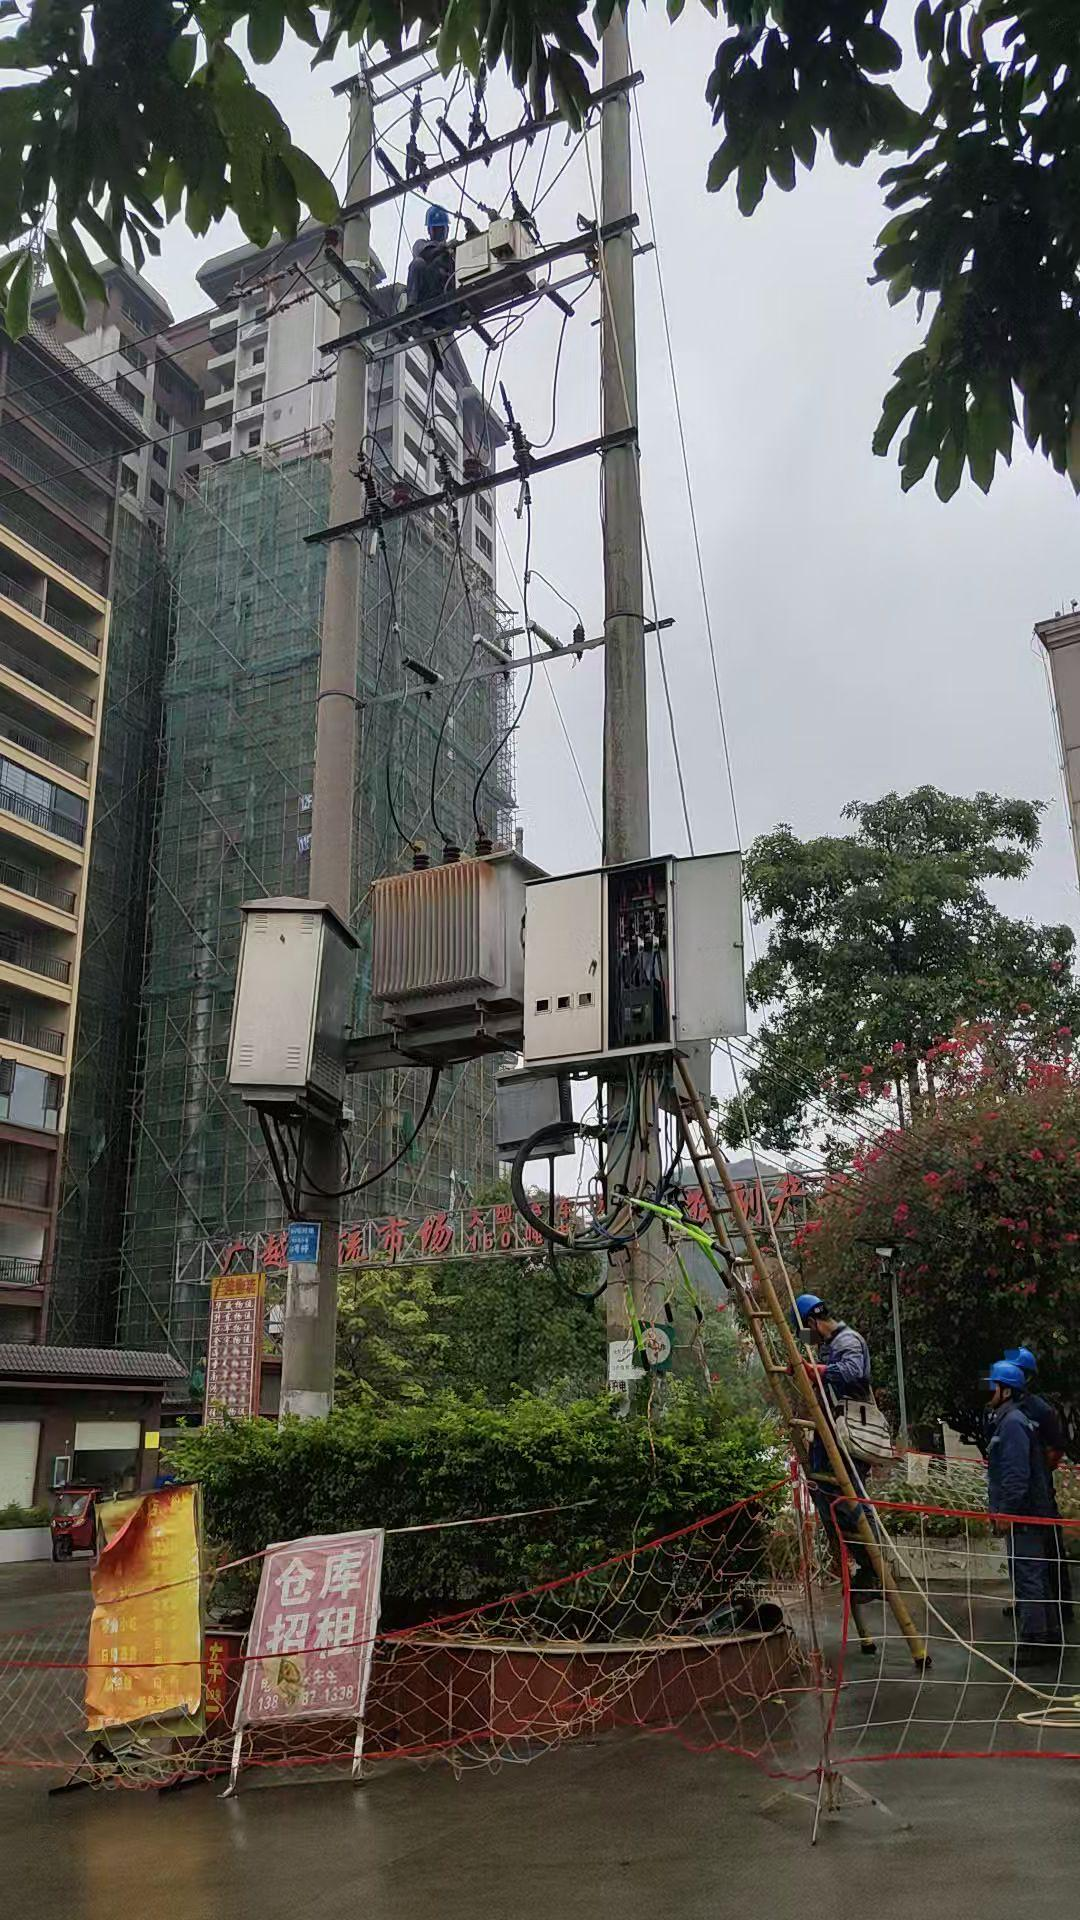halt: (982, 1352, 1039, 1406), (799, 1295, 835, 1342), (426, 204, 454, 239)
